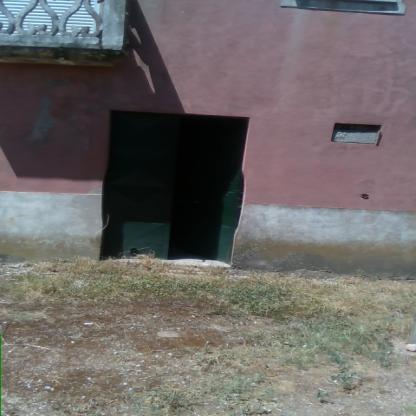open: (96, 98, 259, 271)
